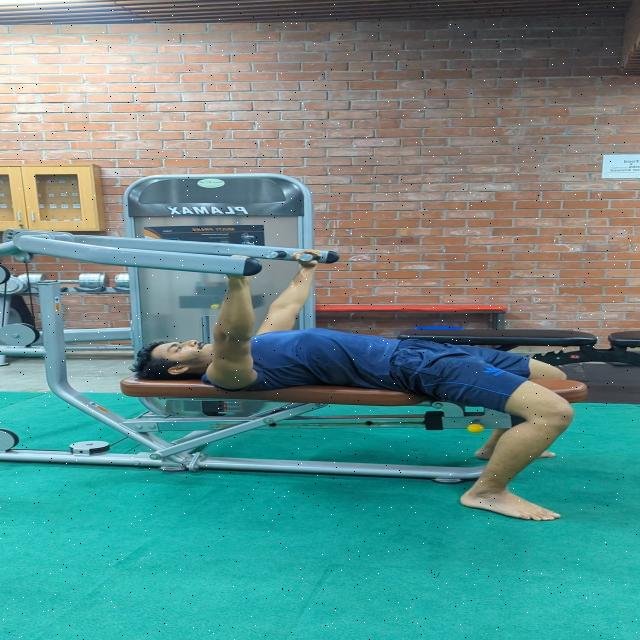Normal_BrenchPress: (89, 238, 579, 536)
